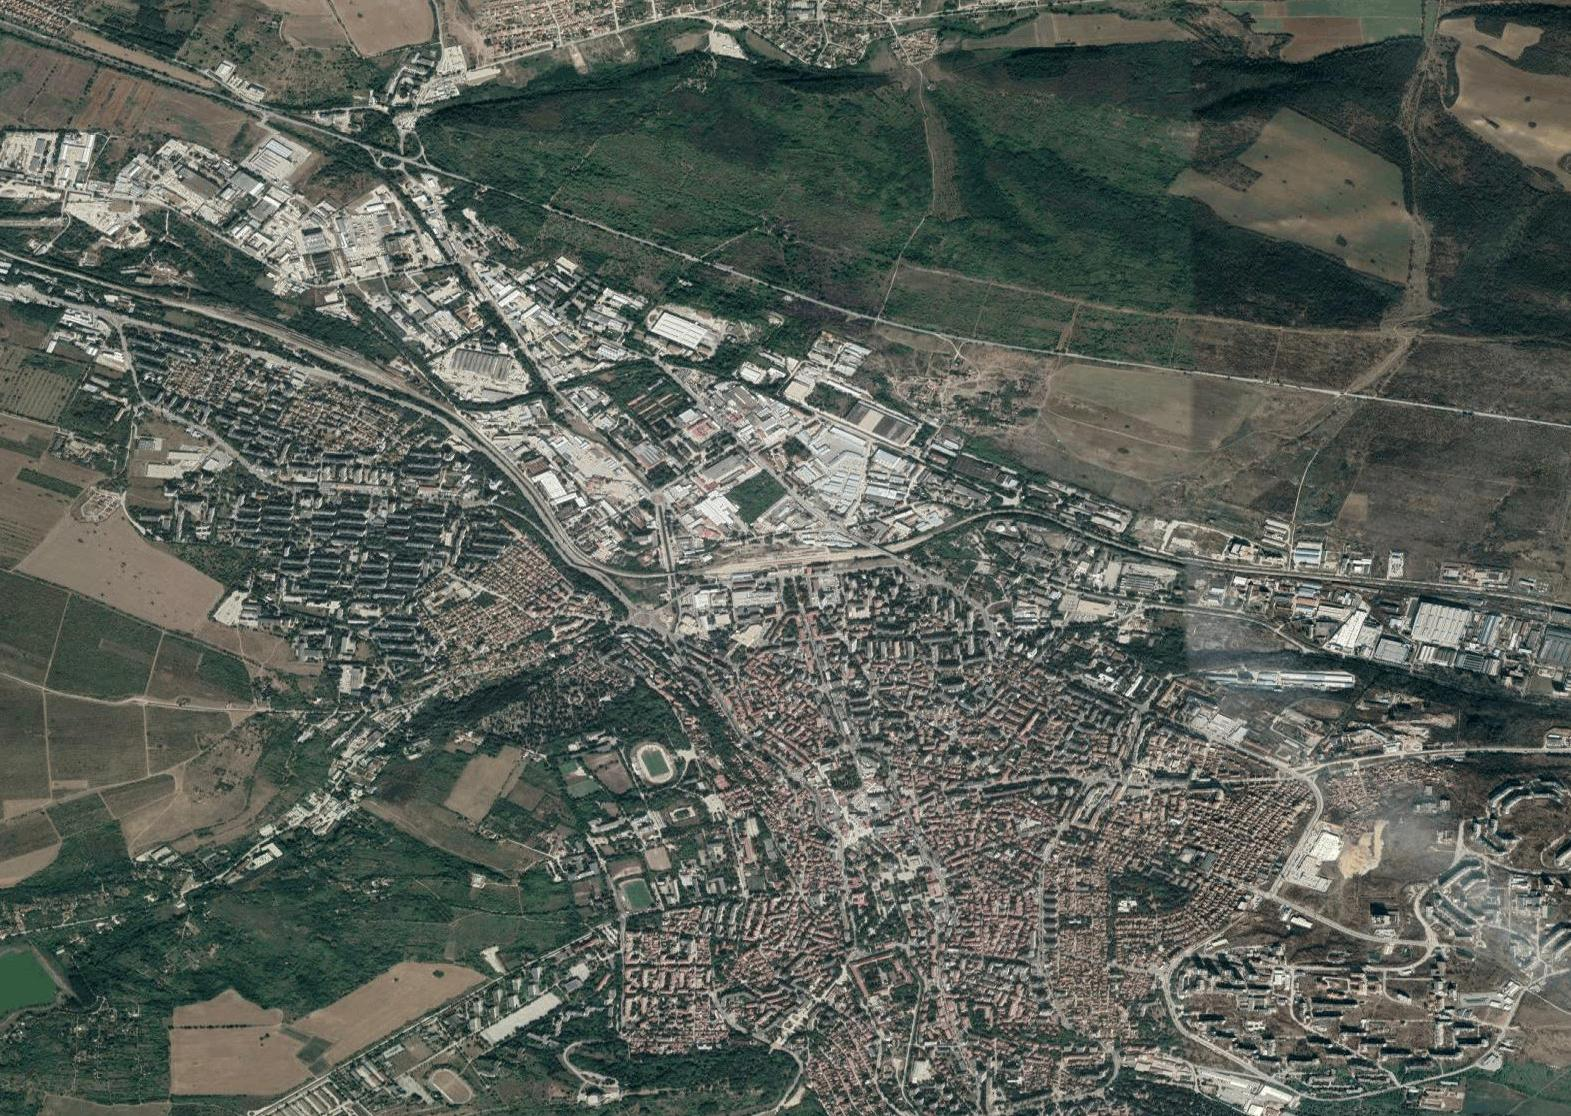industrial: (683, 412, 927, 544)
train_station: (732, 548, 850, 581)
